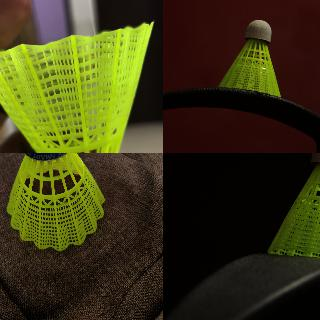shuttlecock: (0, 20, 154, 152), (6, 153, 105, 249), (267, 153, 319, 268), (218, 20, 280, 96)
